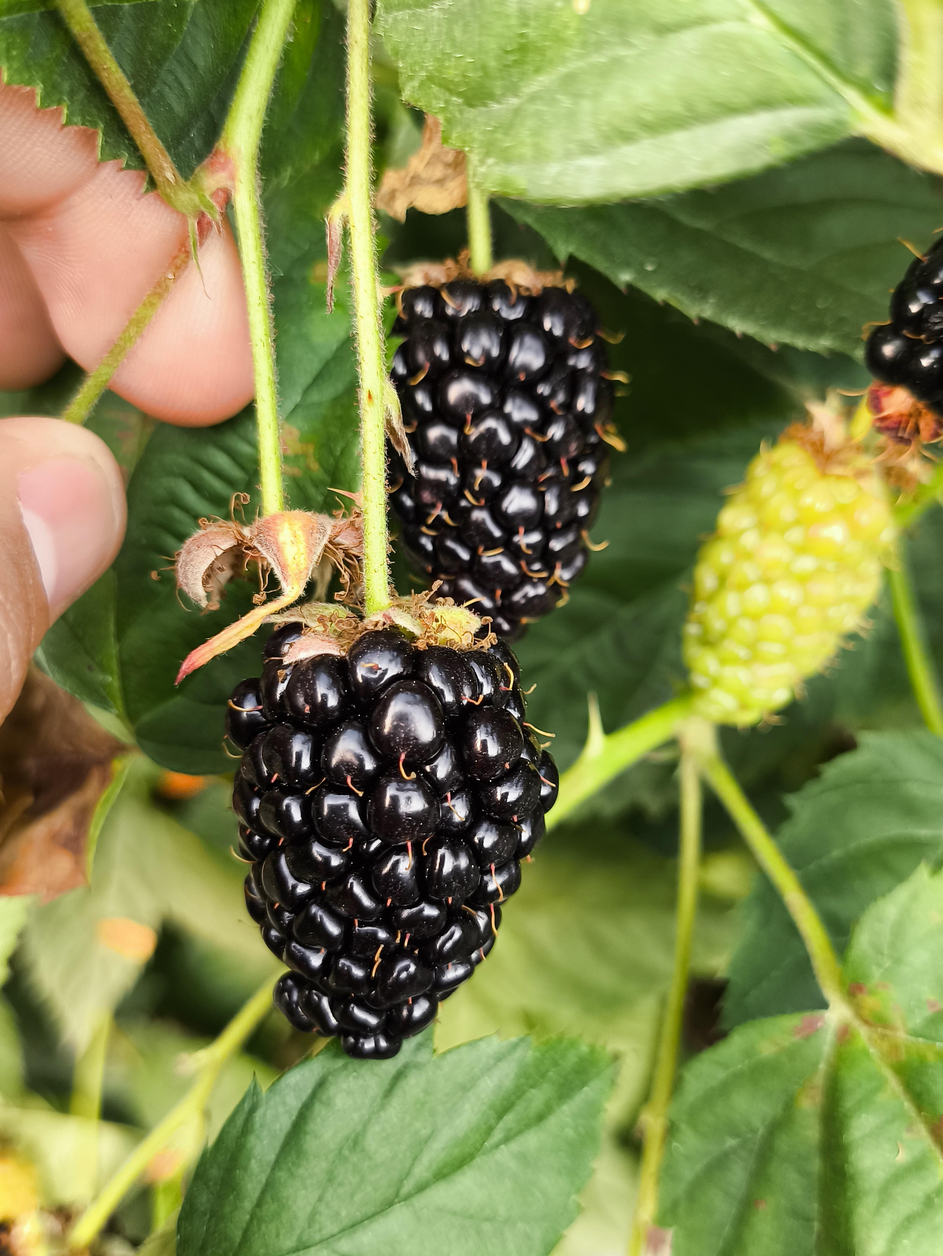maduro: (225, 629, 542, 1061), (389, 279, 620, 641)
verde: (683, 426, 892, 726)
